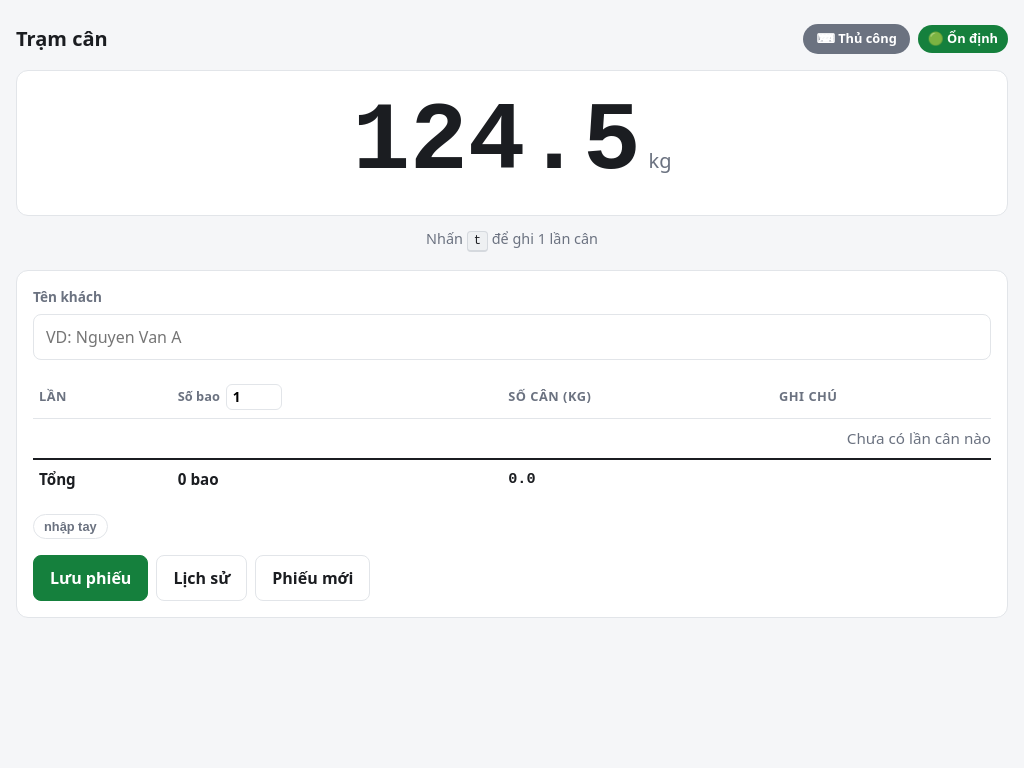
Test: WeighScreen › bấm vào số cân là sửa được ngay, không cần nút Sửa
The image size is (1024, 768).
Type keys "t"
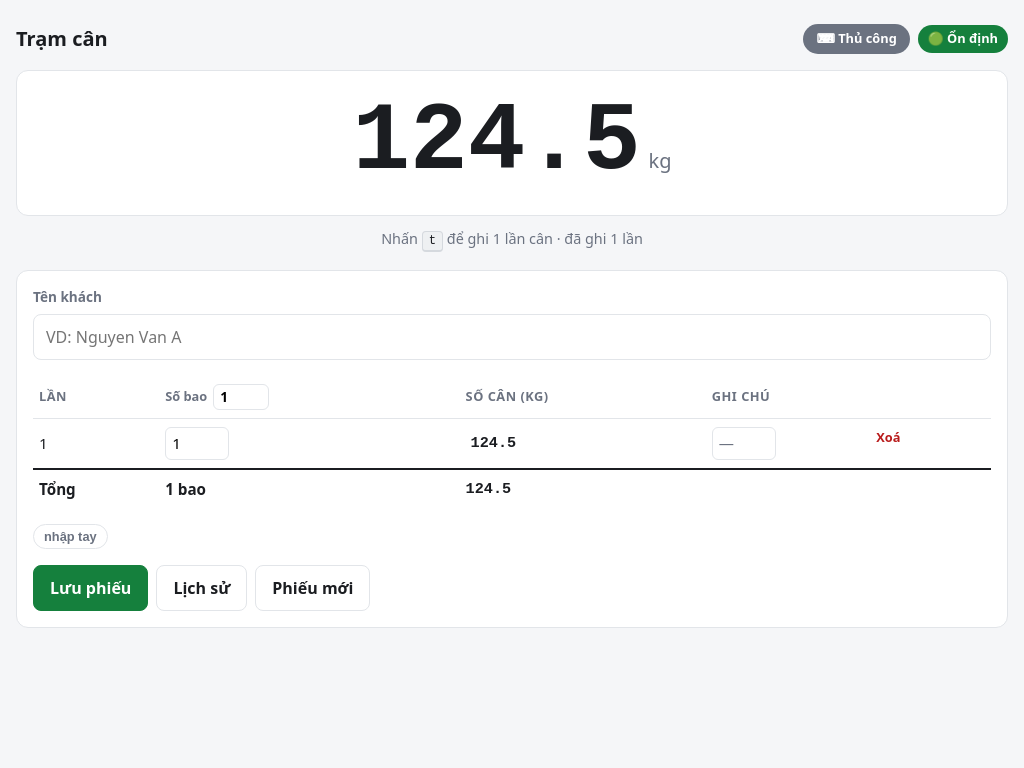
Check: the button named "Sửa số cân lần 1" is shown
Check: the button with aria-label "Xoá lần cân 1" is shown, box [872,427,904,449]
Click the button named "Sửa số cân lần 1" at (493, 444), box [466,429,521,458]
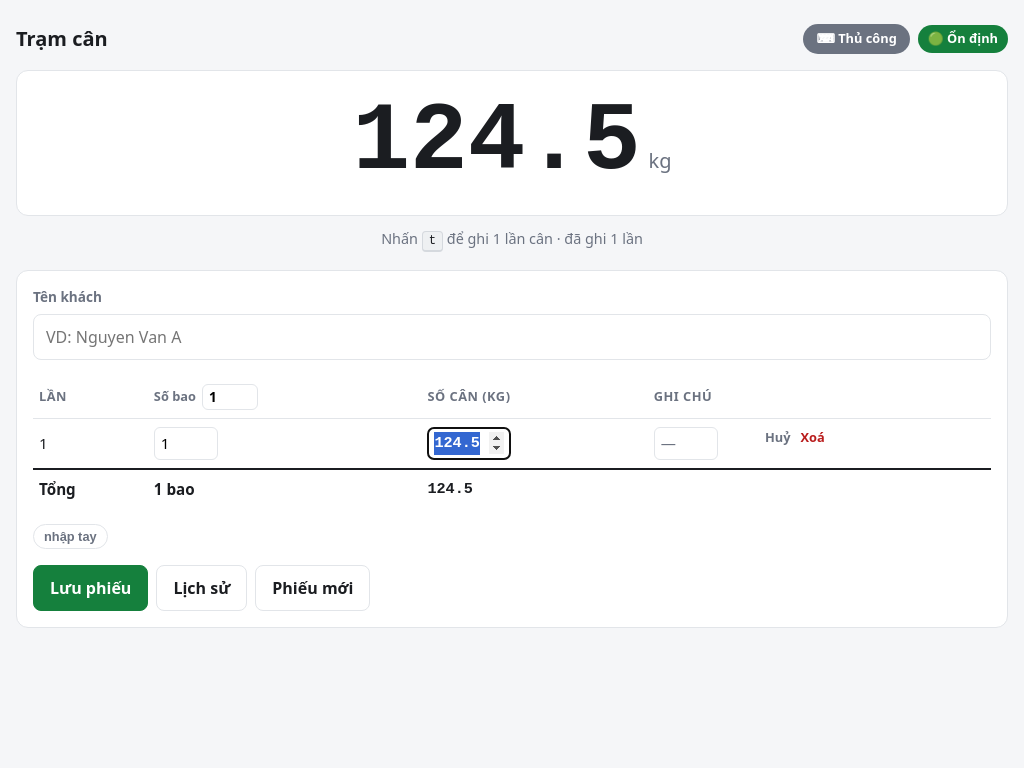
Check: the number field named "Số cân lần 1" holds "124.5", box [427,427,511,460]
